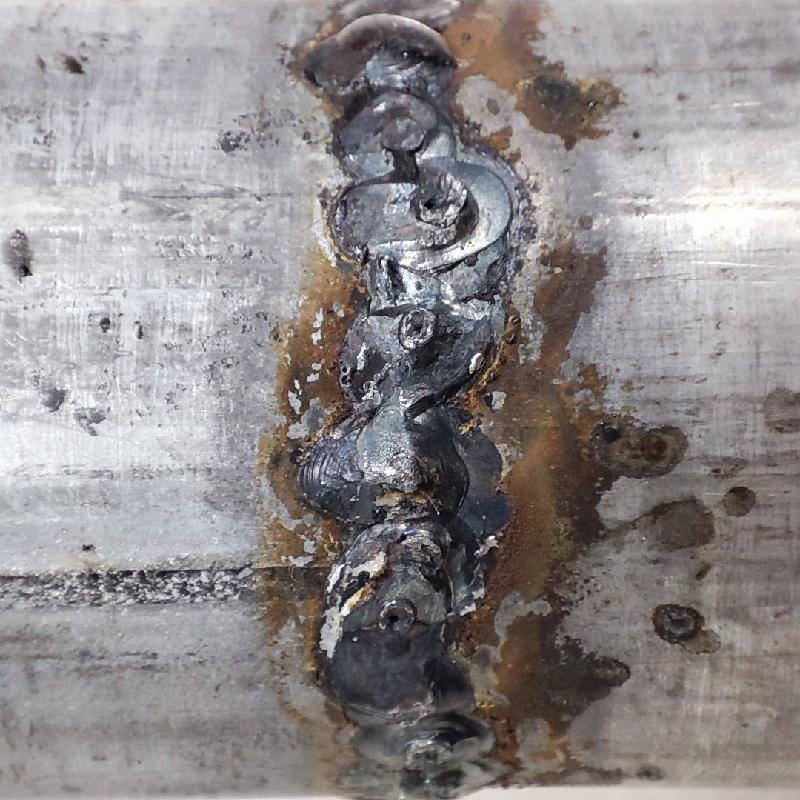Surface_pores: (407, 179, 454, 225), (398, 306, 434, 344), (383, 602, 412, 634)
Weld: (310, 10, 463, 90)
wrong_size: (295, 4, 511, 798)
